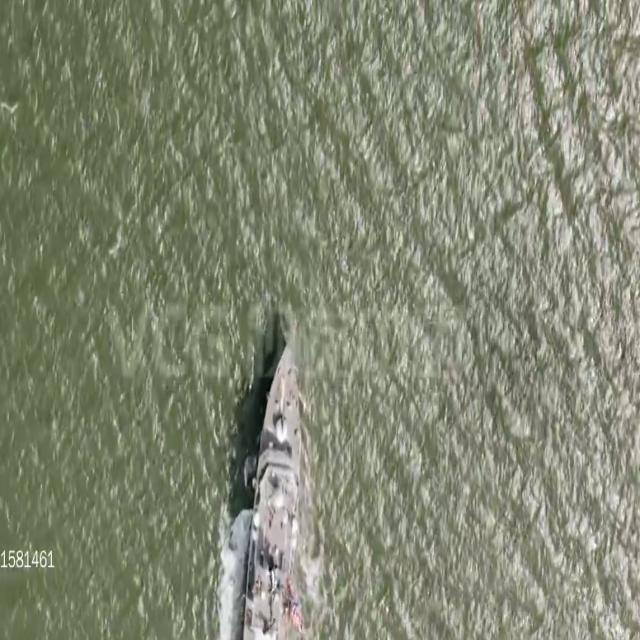navalvessels: (237, 338, 304, 640)
